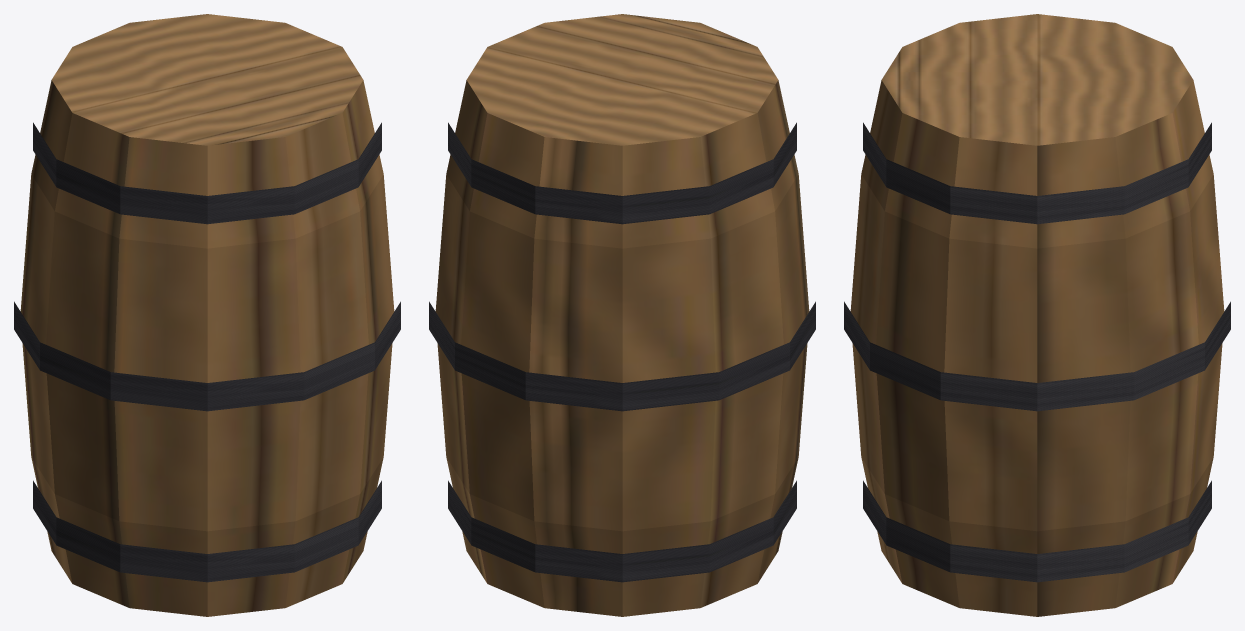
File: prop_barrel.glb
3 renders of one model, left to right at view 1: azimuth 30°, elevation 25°; view 2: azimuth 150°, elevation 25°; view 3: azimuth 270°, elevation 25°, orthographic.
Visible parts, largest first — view 1: prop_barrel; view 2: prop_barrel; view 3: prop_barrel.
Boxes of the visible parts, x1,y1,x2,y2 form: prop_barrel: (14, 14, 400, 616); prop_barrel: (429, 14, 815, 616); prop_barrel: (844, 14, 1230, 616).
Size of the model in its own units: 0.744 by 1 by 0.744.
1 material, 1 textured.
